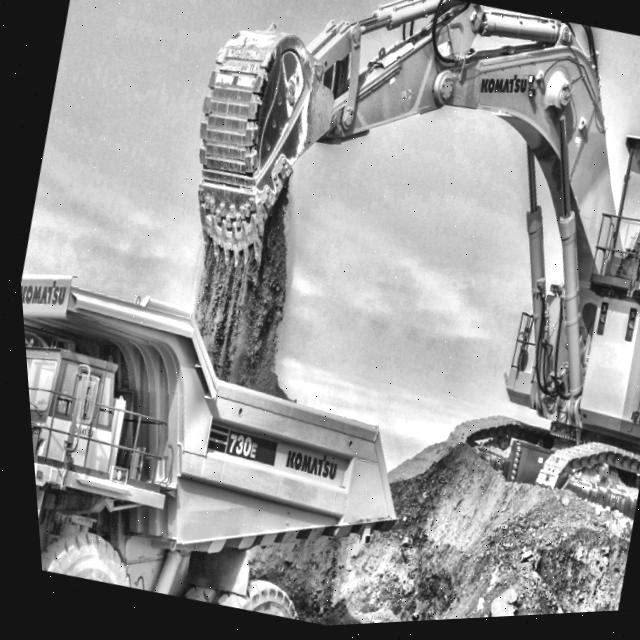dump_truck: (15, 236, 436, 640)
excavator: (108, 0, 640, 586)
